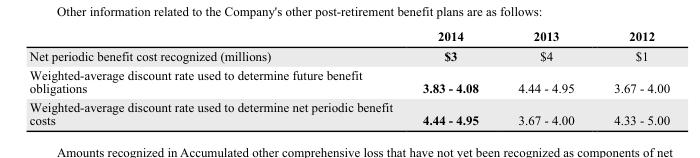table: (28, 28, 669, 127)
table column: (28, 28, 407, 127), (497, 28, 593, 127), (407, 28, 497, 127), (593, 28, 669, 127)
table column header: (28, 28, 669, 45)
table row: (28, 65, 669, 97), (28, 97, 669, 127), (28, 45, 669, 65), (28, 28, 669, 45)
